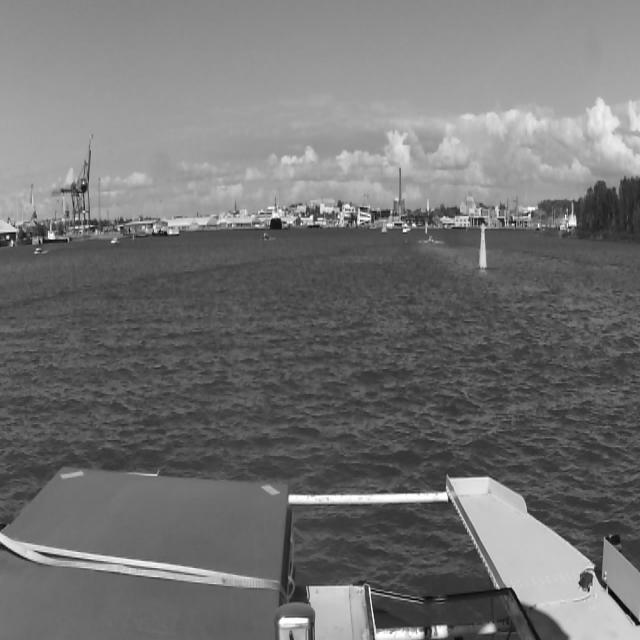buoy: (481, 223, 486, 269), (422, 220, 428, 234)
ship: (252, 205, 298, 227), (270, 198, 282, 230), (43, 230, 68, 243), (32, 245, 44, 255), (425, 232, 433, 245), (402, 224, 410, 233), (111, 237, 119, 243), (263, 233, 268, 241)
